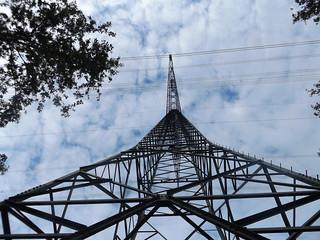power_tower: (0, 51, 320, 240)
